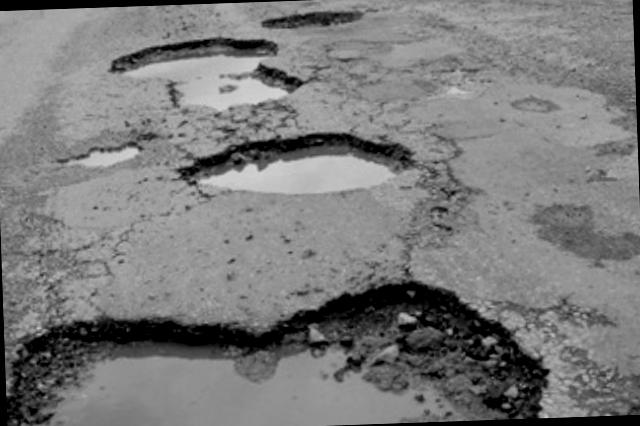Pothole: (2, 267, 551, 426), (180, 123, 416, 200), (106, 32, 300, 118), (254, 4, 372, 34), (62, 131, 146, 172)
